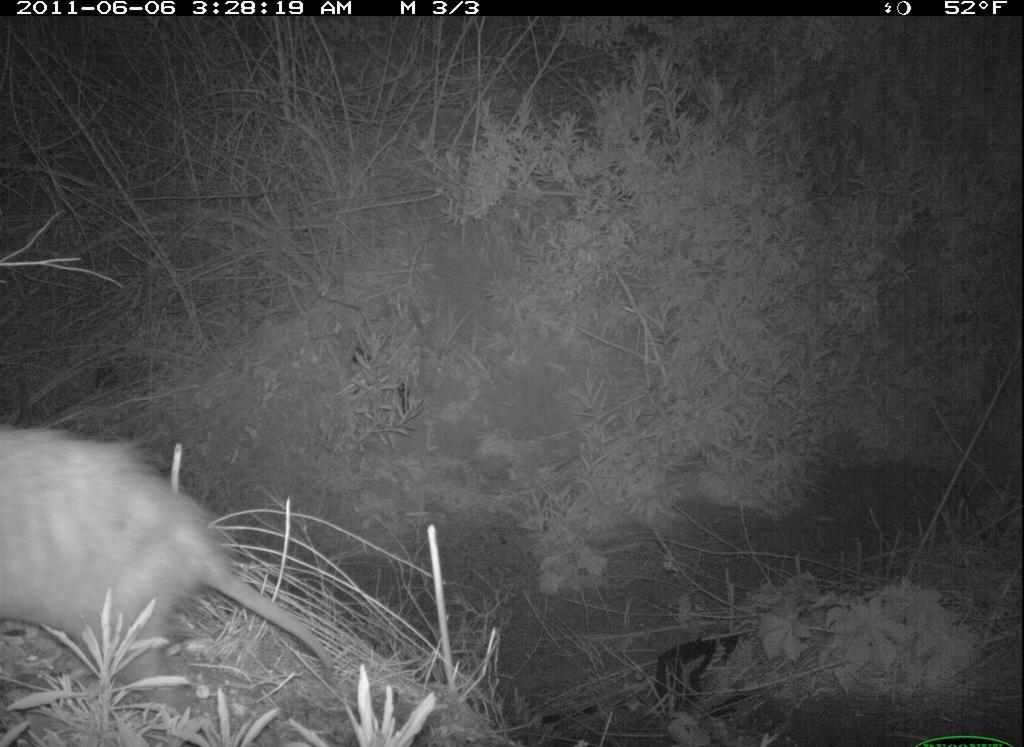opossum: (7, 422, 361, 681)
